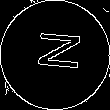N_W: (28, 33, 82, 77)
